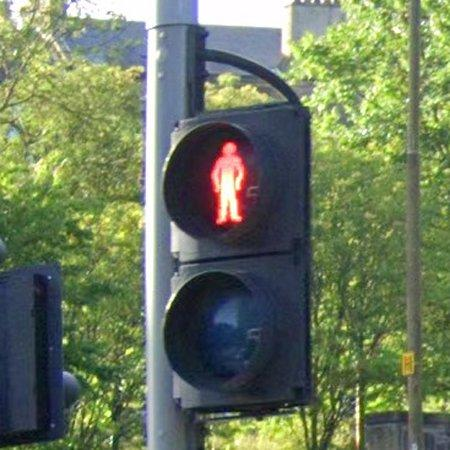traffic lights: (164, 102, 312, 410)
